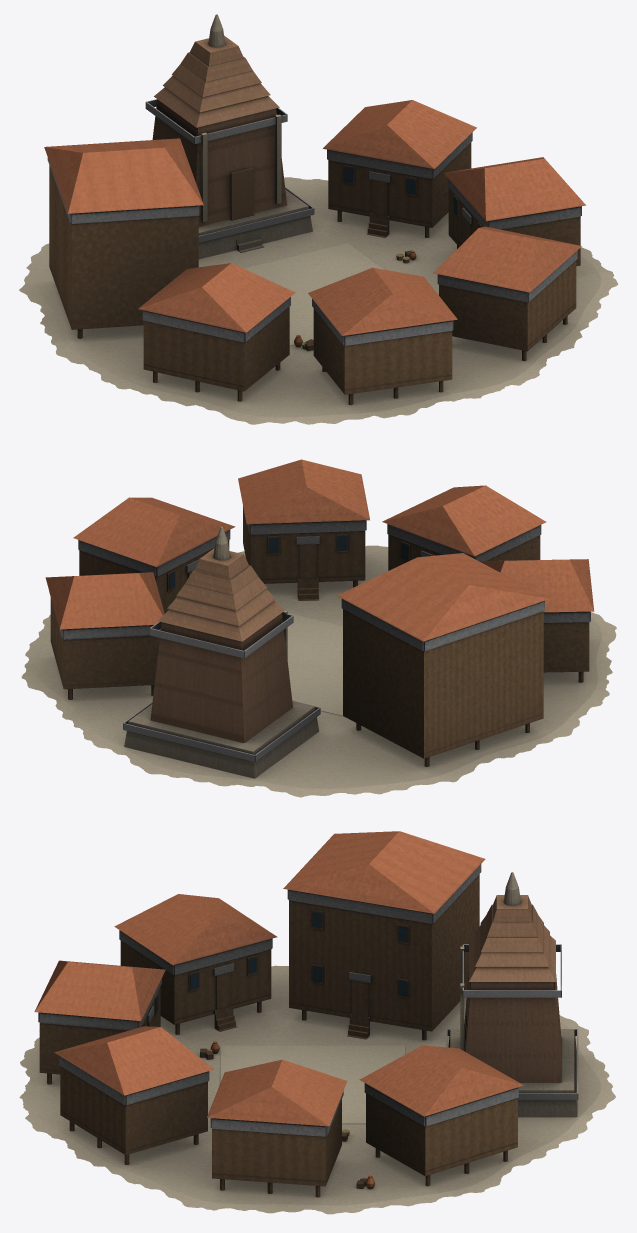
Rendered from classical-town-small-a-monsoon.glb.
3 views of the same model, one above another, from view 1: azimuth 30°, elevation 25°; view 2: azimuth 150°, elevation 25°; view 3: azimuth 270°, elevation 25° (orthographic).
Parts seen in each view (by area): view 1: LOD0; view 2: LOD0; view 3: LOD0.
Part boxes in pixels (x1,y1,x2,y2): LOD0: (19, 14, 617, 424); LOD0: (21, 459, 616, 797); LOD0: (19, 831, 615, 1214).
Size of what is drawn, in the model's own units: 3.95 by 1.56 by 3.96.
3 materials, 3 textured.
